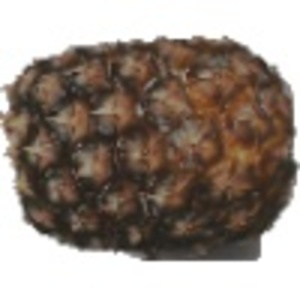abacaxi: (2, 29, 292, 253)
